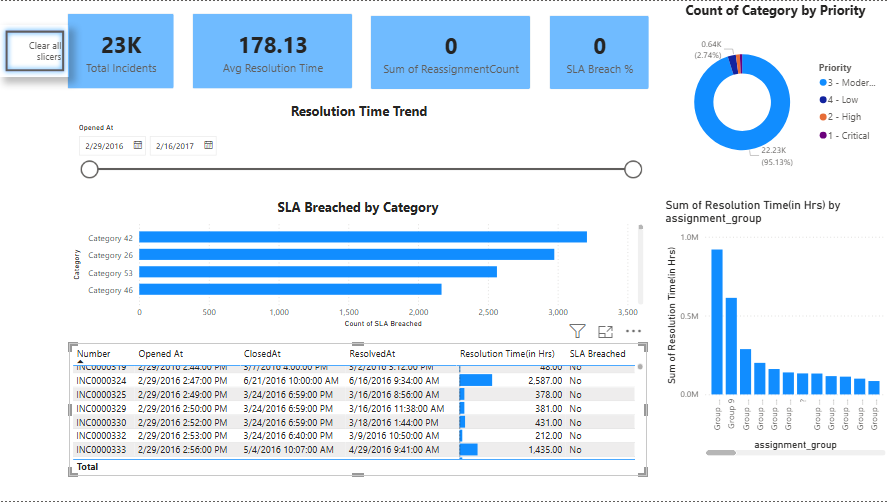

Layout of this report page (visuals, bound fields, positions):
{"tool":"powerbi","page":{"name":"Page 1","canvas":[1280,720],"ordinal":0},"visuals":[{"type":"cardVisual","fields":{"Data":["incident_event_log.Total Incidents"]},"box":[79.4,0,189.2,144.8],"z":0},{"type":"cardVisual","fields":{"Data":["incident_event_log.Avg Resolution Time"]},"box":[259.3,0,266.3,144.8],"z":1000},{"type":"cardVisual","fields":{"Data":["Sum(incident_event_log.ReassignmentCount)"]},"box":[516.2,2.3,266.3,142.5],"z":2000},{"type":"cardVisual","fields":{"Data":["incident_event_log.SLA Breach %"]},"box":[773.1,2.3,179.9,142.5],"z":3000},{"type":"actionButton","box":[0,35,100.4,74.7],"z":4000},{"type":"donutChart","fields":{"Category":["incident_event_log.Priority"],"Y":["CountNonNull(incident_event_log.Category)"]},"box":[953.3,0,326.9,266.4],"z":5000},{"type":"slicer","title":"Resolution Time Trend","fields":{"Values":["incident_event_log.Opened At"]},"box":[100.8,145.4,832.3,121],"z":6000},{"type":"clusteredBarChart","title":"SLA Breached by Category","fields":{"Category":["incident_event_log.Category"],"Y":["CountNonNull(incident_event_log.SLA Breached)"]},"box":[99.4,283.7,832.3,191.5],"z":7000},{"type":"tableEx","fields":{"Values":["incident_event_log.Number","incident_event_log.Opened At","incident_event_log.ClosedAt","incident_event_log.ResolvedAt","select","incident_event_log.Resolution Time(in Hrs)","select1","incident_event_log.SLA Breached"]},"box":[99,492,832,192],"z":8000},{"type":"clusteredColumnChart","fields":{"Category":["incident_event_log.assignment_group"],"Y":["Sum(incident_event_log.Resolution Time(in Hrs))"]},"box":[953.3,283.7,326.9,375.8],"z":9000}]}

Visuals, with their boxes in screenshot pixels (x1, y1, x2, y2), scaled from the page's 1280x720 canvas onto the 887x502 screenshot:
cardVisual - incident_event_log.Total Incidents: box=[55, 0, 186, 101]
cardVisual - incident_event_log.Avg Resolution Time: box=[180, 0, 364, 101]
cardVisual - Sum(incident_event_log.ReassignmentCount): box=[358, 2, 542, 101]
cardVisual - incident_event_log.SLA Breach %: box=[536, 2, 660, 101]
actionButton: box=[0, 24, 70, 76]
donutChart - incident_event_log.Priority x CountNonNull(incident_event_log.Category): box=[661, 0, 886, 186]
"Resolution Time Trend" slicer: box=[70, 101, 647, 186]
"SLA Breached by Category" clusteredBarChart: box=[69, 198, 646, 331]
tableEx - incident_event_log.Number x incident_event_log.Opened At: box=[69, 343, 645, 477]
clusteredColumnChart - incident_event_log.assignment_group x Sum(incident_event_log.Resolution Time(in Hrs)): box=[661, 198, 886, 460]
